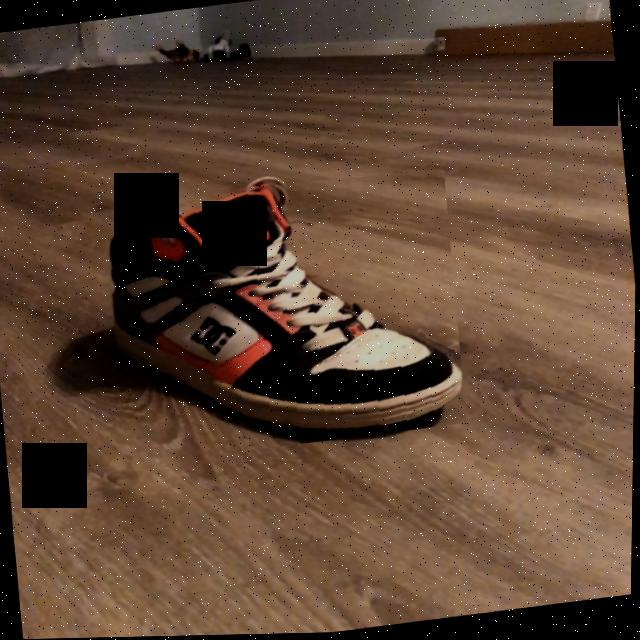shoe: (109, 186, 464, 437)
